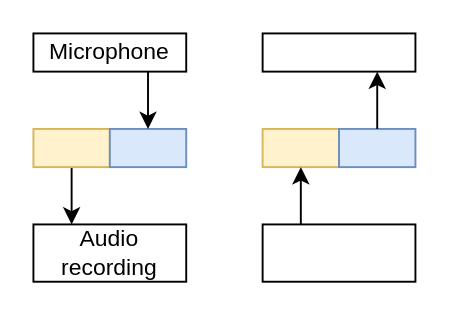
This 449x315 diagram has some shape labels left out. Here are the shapes that lost their labels. From the top down, the centre of each, then its label:
At point (338, 52): "Speaker".
At point (338, 252): "Audio playback".
